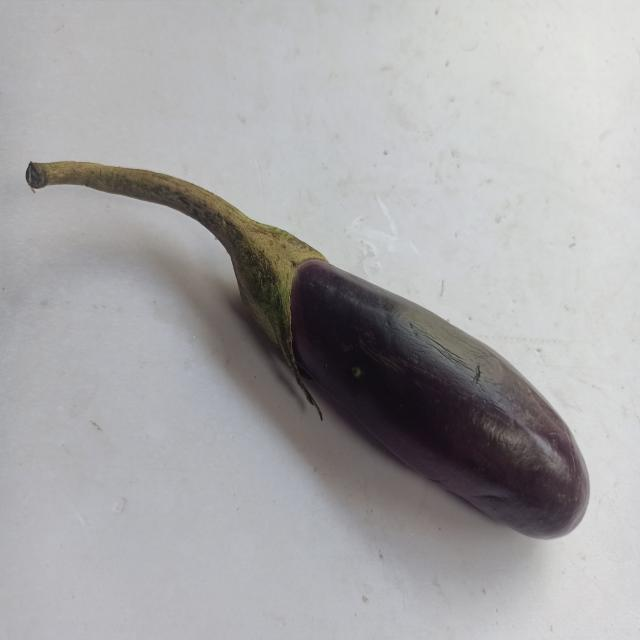Brinjal: (16, 71, 632, 548)
